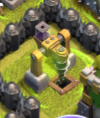dark_elixir_colector: (19, 16, 79, 95)
